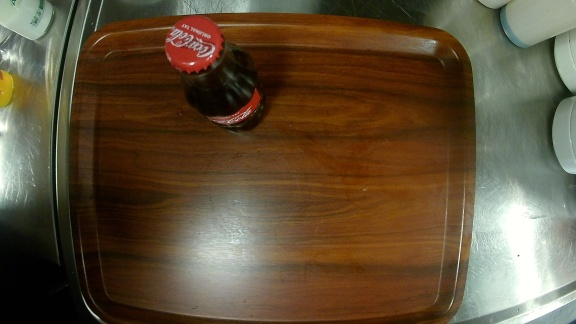camkola: (160, 15, 278, 140)
